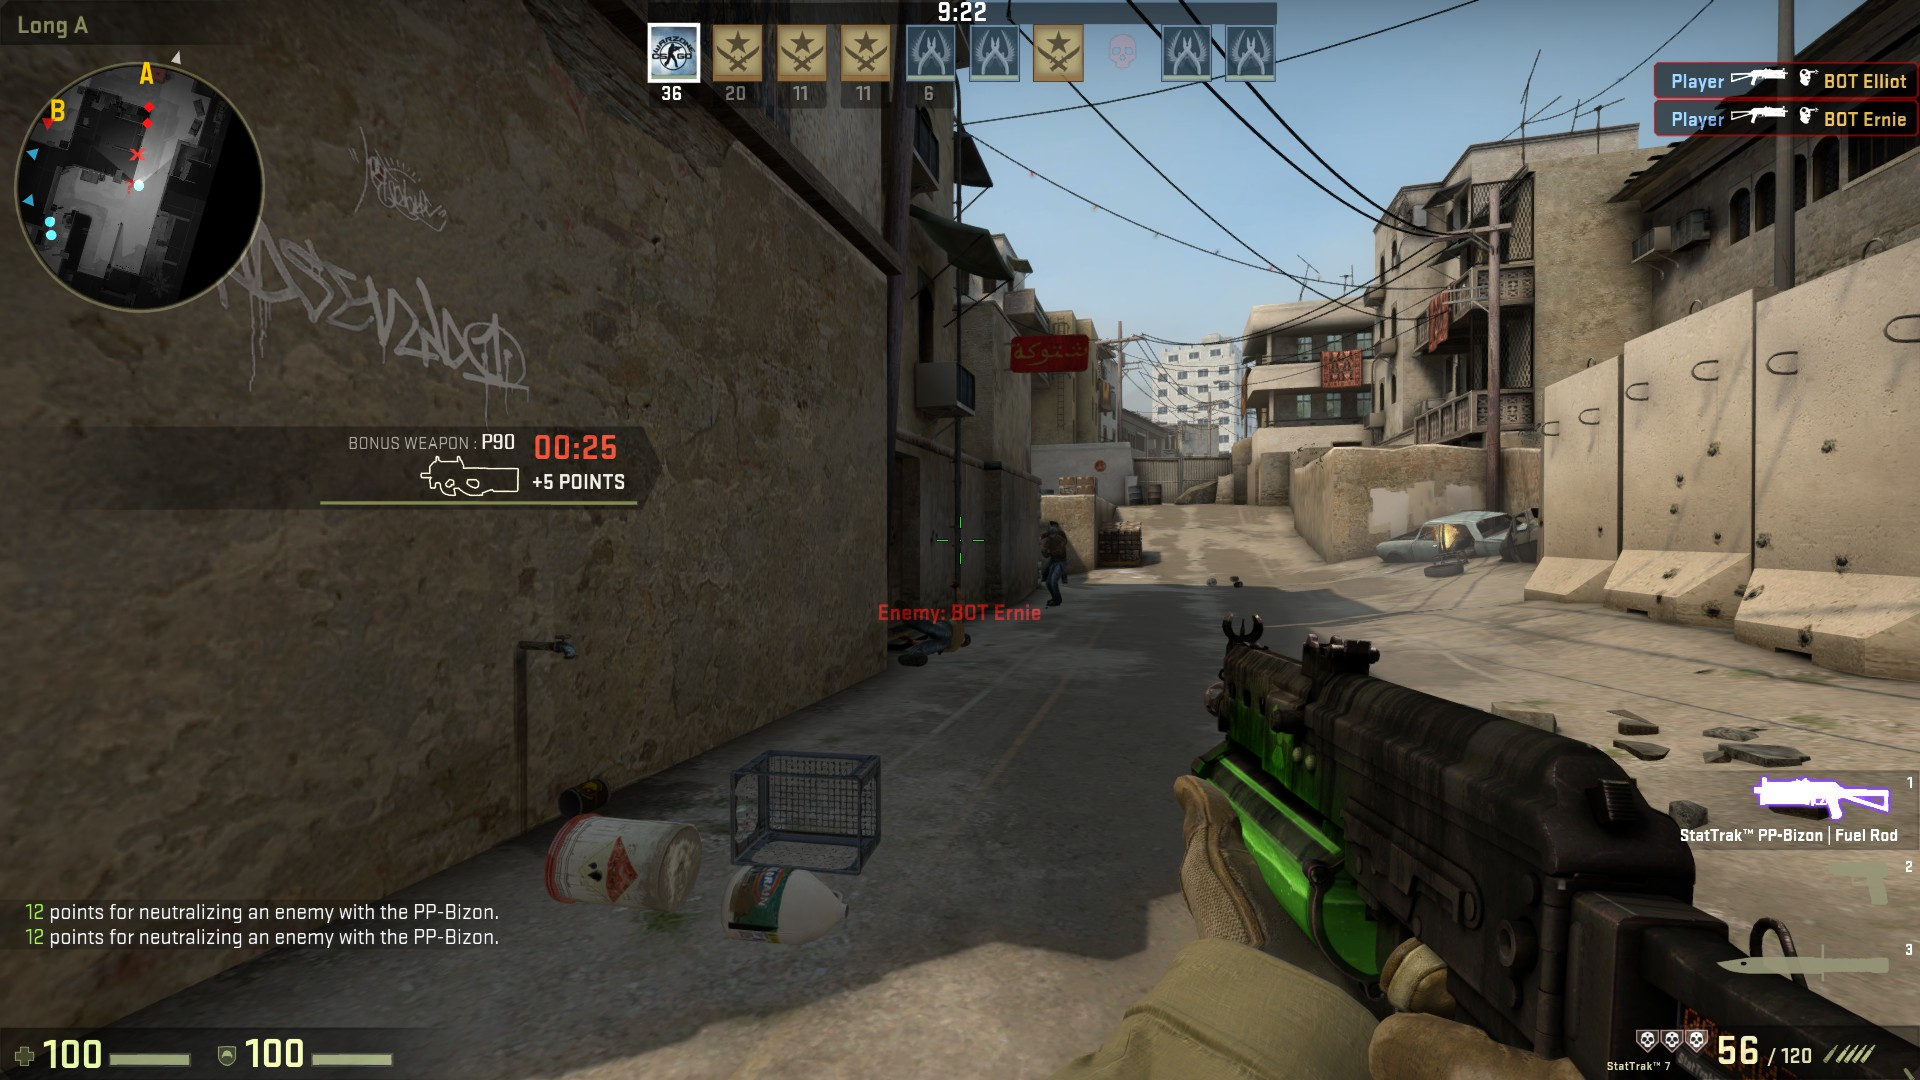t: (1039, 521, 1071, 605)
th: (1043, 520, 1063, 541)
